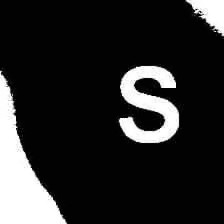LTR_S: (115, 59, 181, 147)
